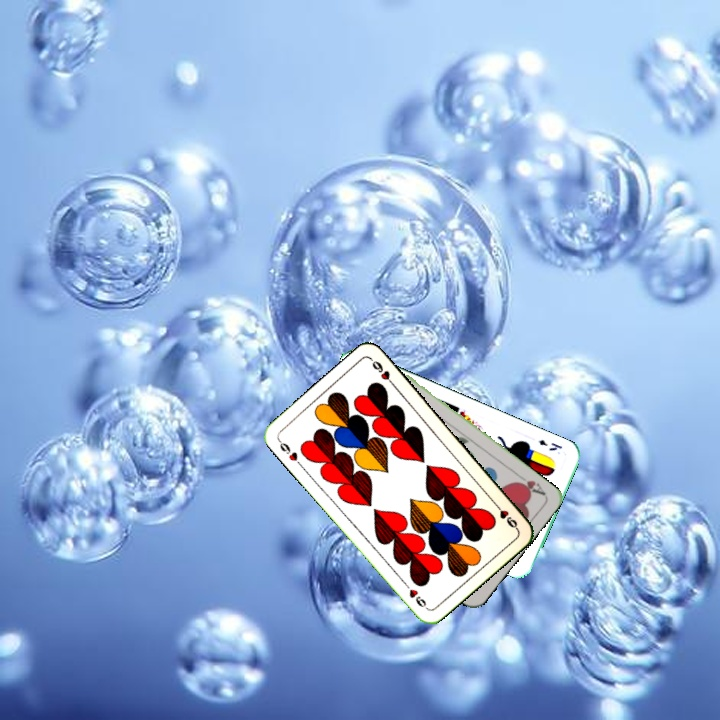EK: (535, 435, 564, 454)
H9: (274, 436, 305, 469), (490, 498, 520, 532)
HA: (511, 469, 548, 498)
